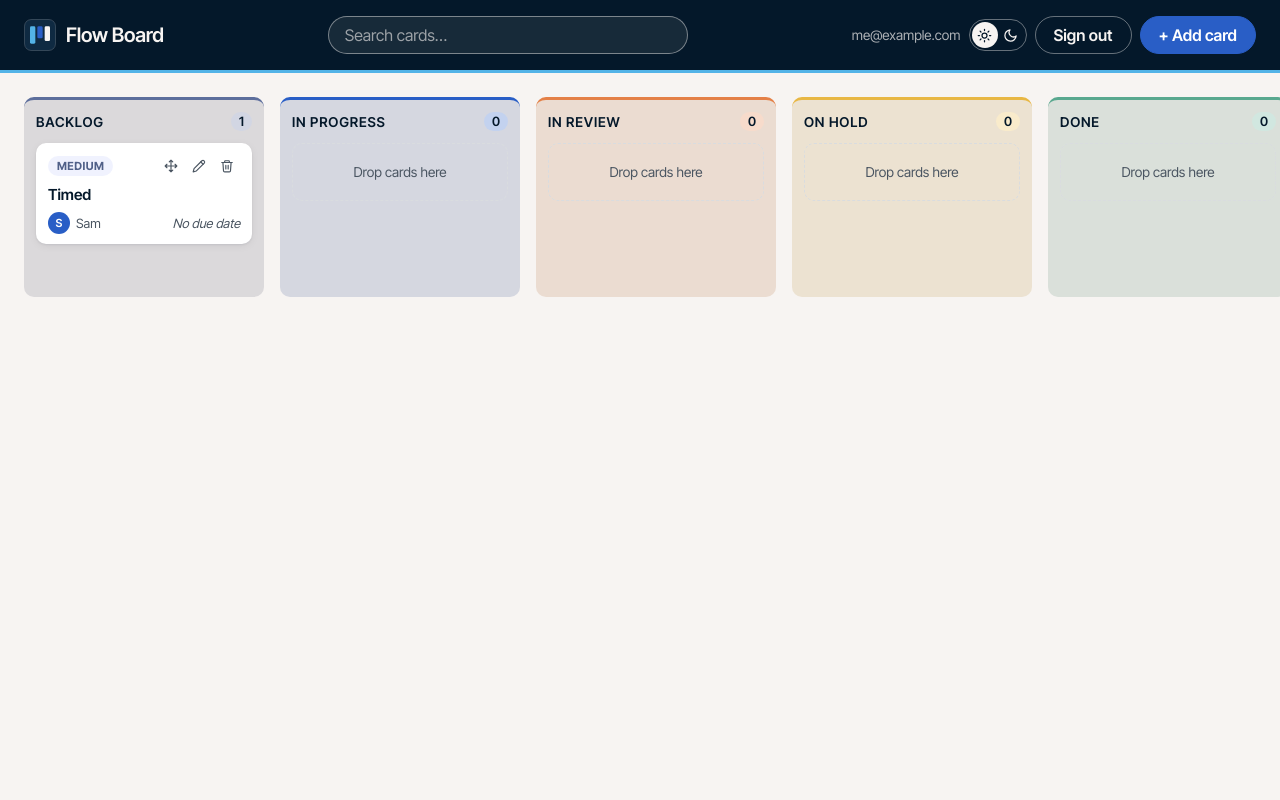
Test: Board: deleting cards (Undo toast) › commits the delete automatically after 6 seconds
Click the button named "Delete Timed" at {"x": 227, "y": 166}, box [214,153,240,179]
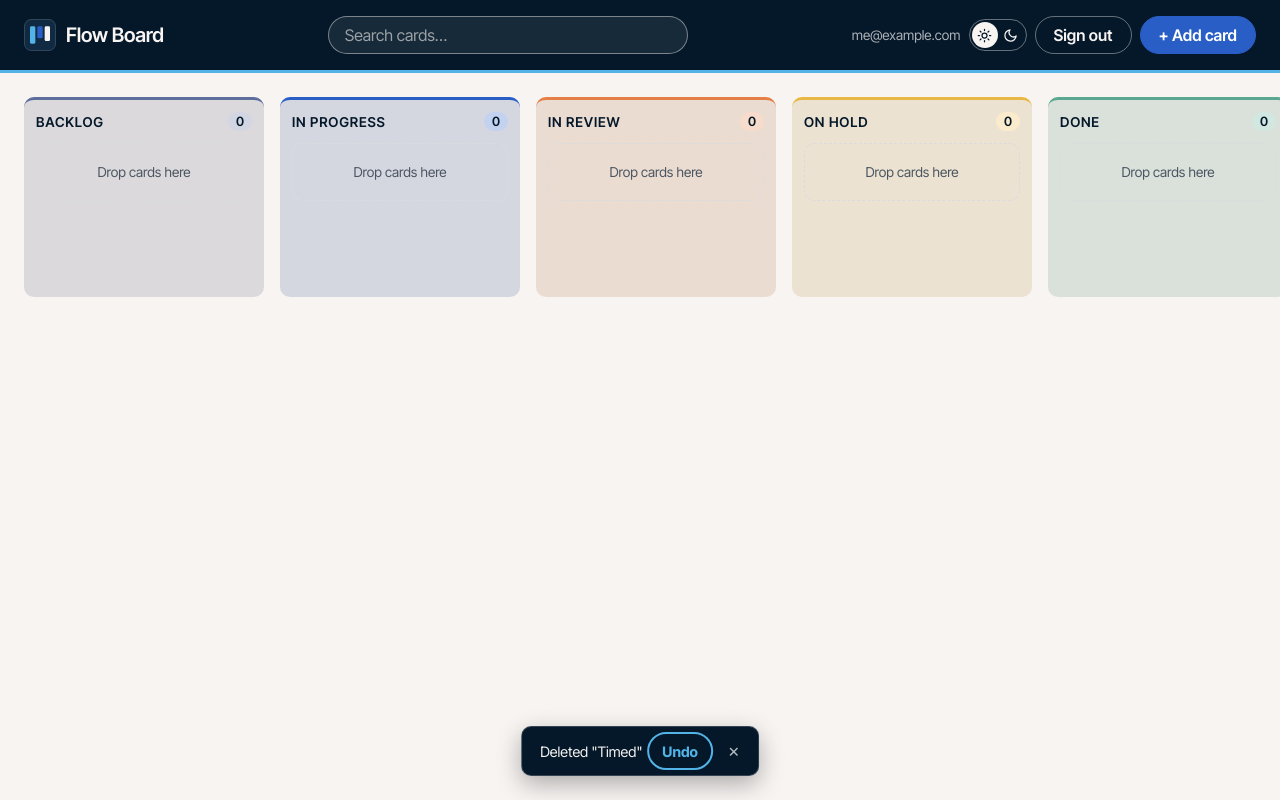
Click the search field at {"x": 508, "y": 35}, box [328,16,688,54]
Wait 6500 ms
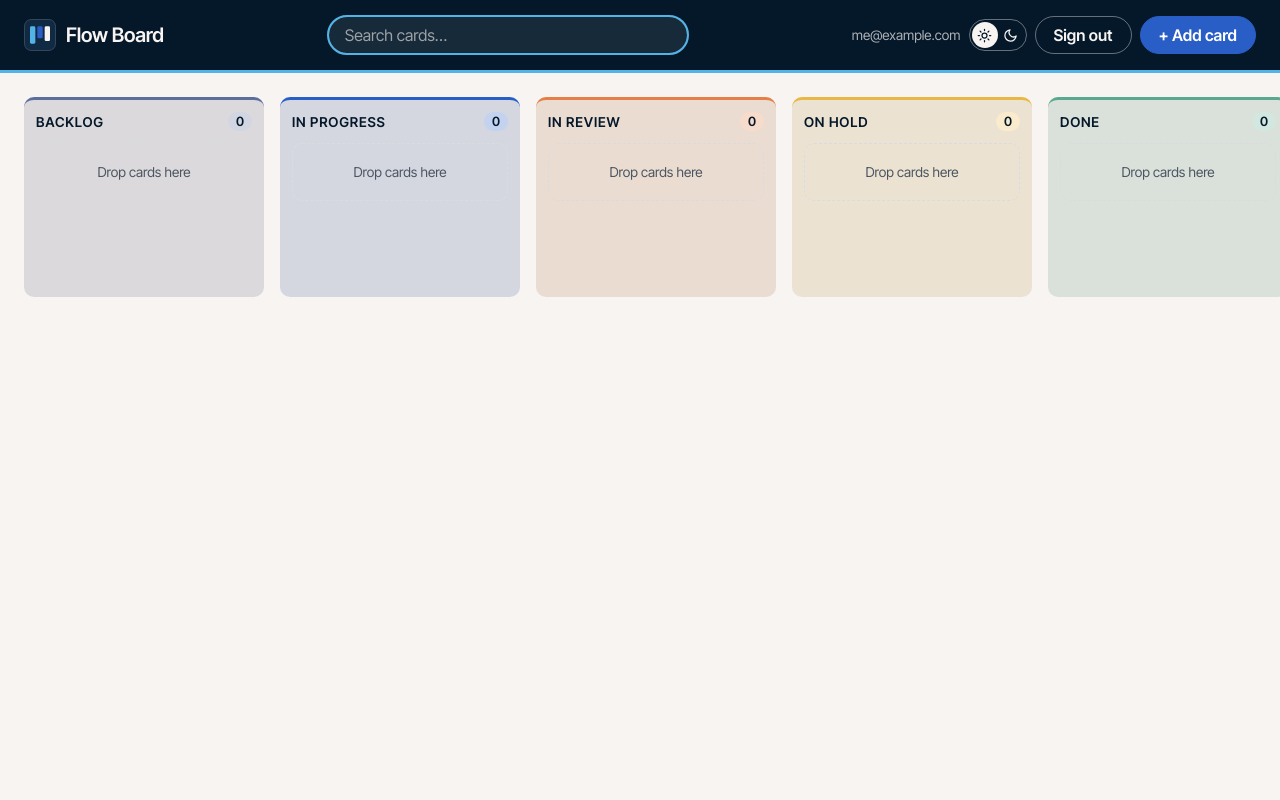
Now the button "Undo" is gone
